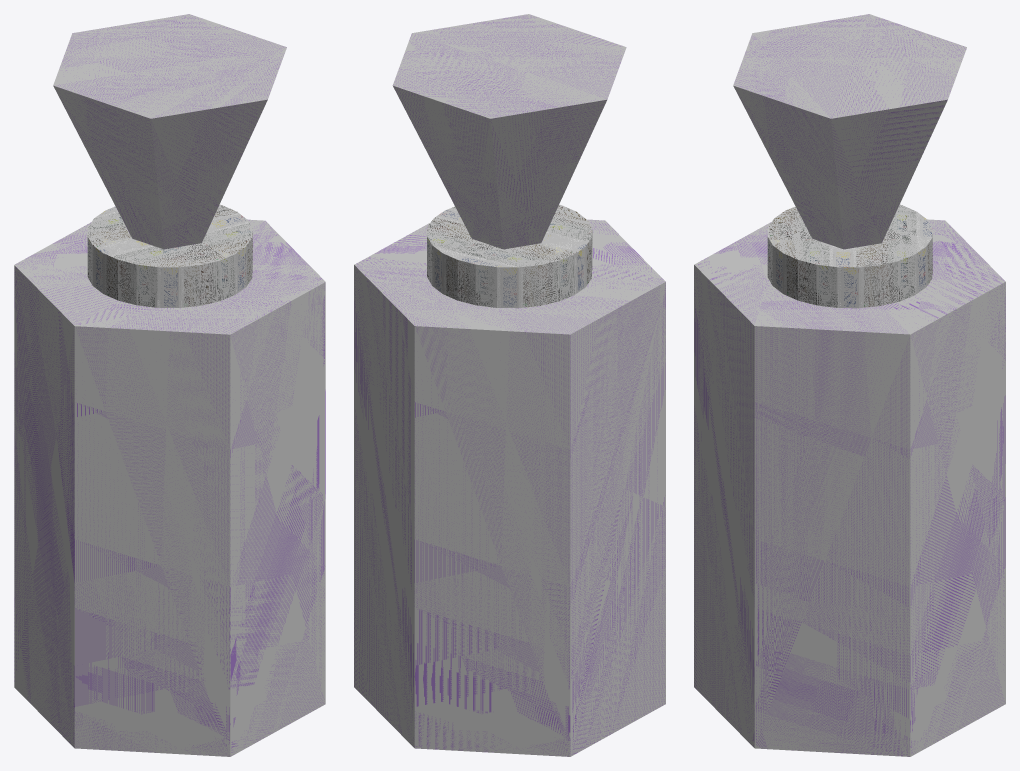
3 views of the same model, side by side, from view 1: azimuth 30°, elevation 25°; view 2: azimuth 150°, elevation 25°; view 3: azimuth 270°, elevation 25° (orthographic).
Parts seen in each view (by area): view 1: mesh2_mesh2-geometry, mesh1_mesh1-geometry; view 2: mesh2_mesh2-geometry, mesh1_mesh1-geometry; view 3: mesh2_mesh2-geometry, mesh1_mesh1-geometry.
Boxes of the visible parts, x1=… form: mesh2_mesh2-geometry: x1=14, y1=219, x2=325, y2=756; mesh1_mesh1-geometry: x1=53, y1=14, x2=286, y2=307; mesh2_mesh2-geometry: x1=354, y1=219, x2=665, y2=756; mesh1_mesh1-geometry: x1=392, y1=14, x2=626, y2=308; mesh2_mesh2-geometry: x1=694, y1=219, x2=1005, y2=756; mesh1_mesh1-geometry: x1=733, y1=14, x2=966, y2=308.
Size of the model in its own units: 0.3561 by 0.8525 by 0.3827.
